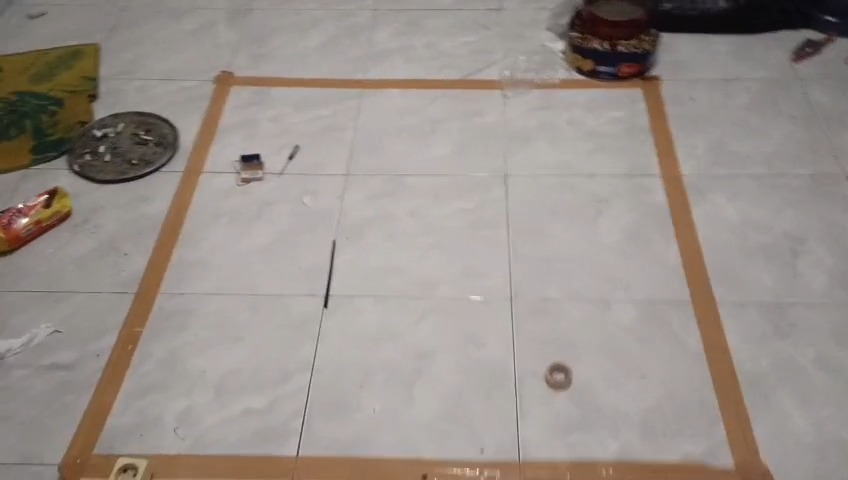floor marking: (150, 77, 773, 479), (59, 71, 505, 479)
